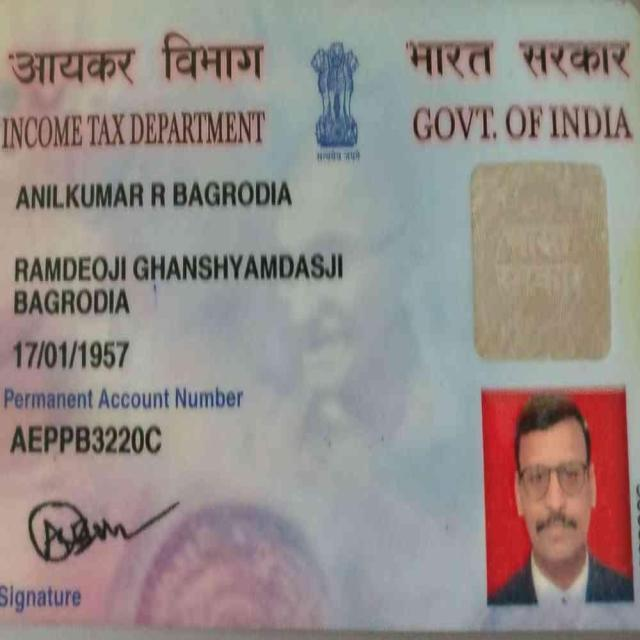pan_card: (0, 0, 640, 627)
